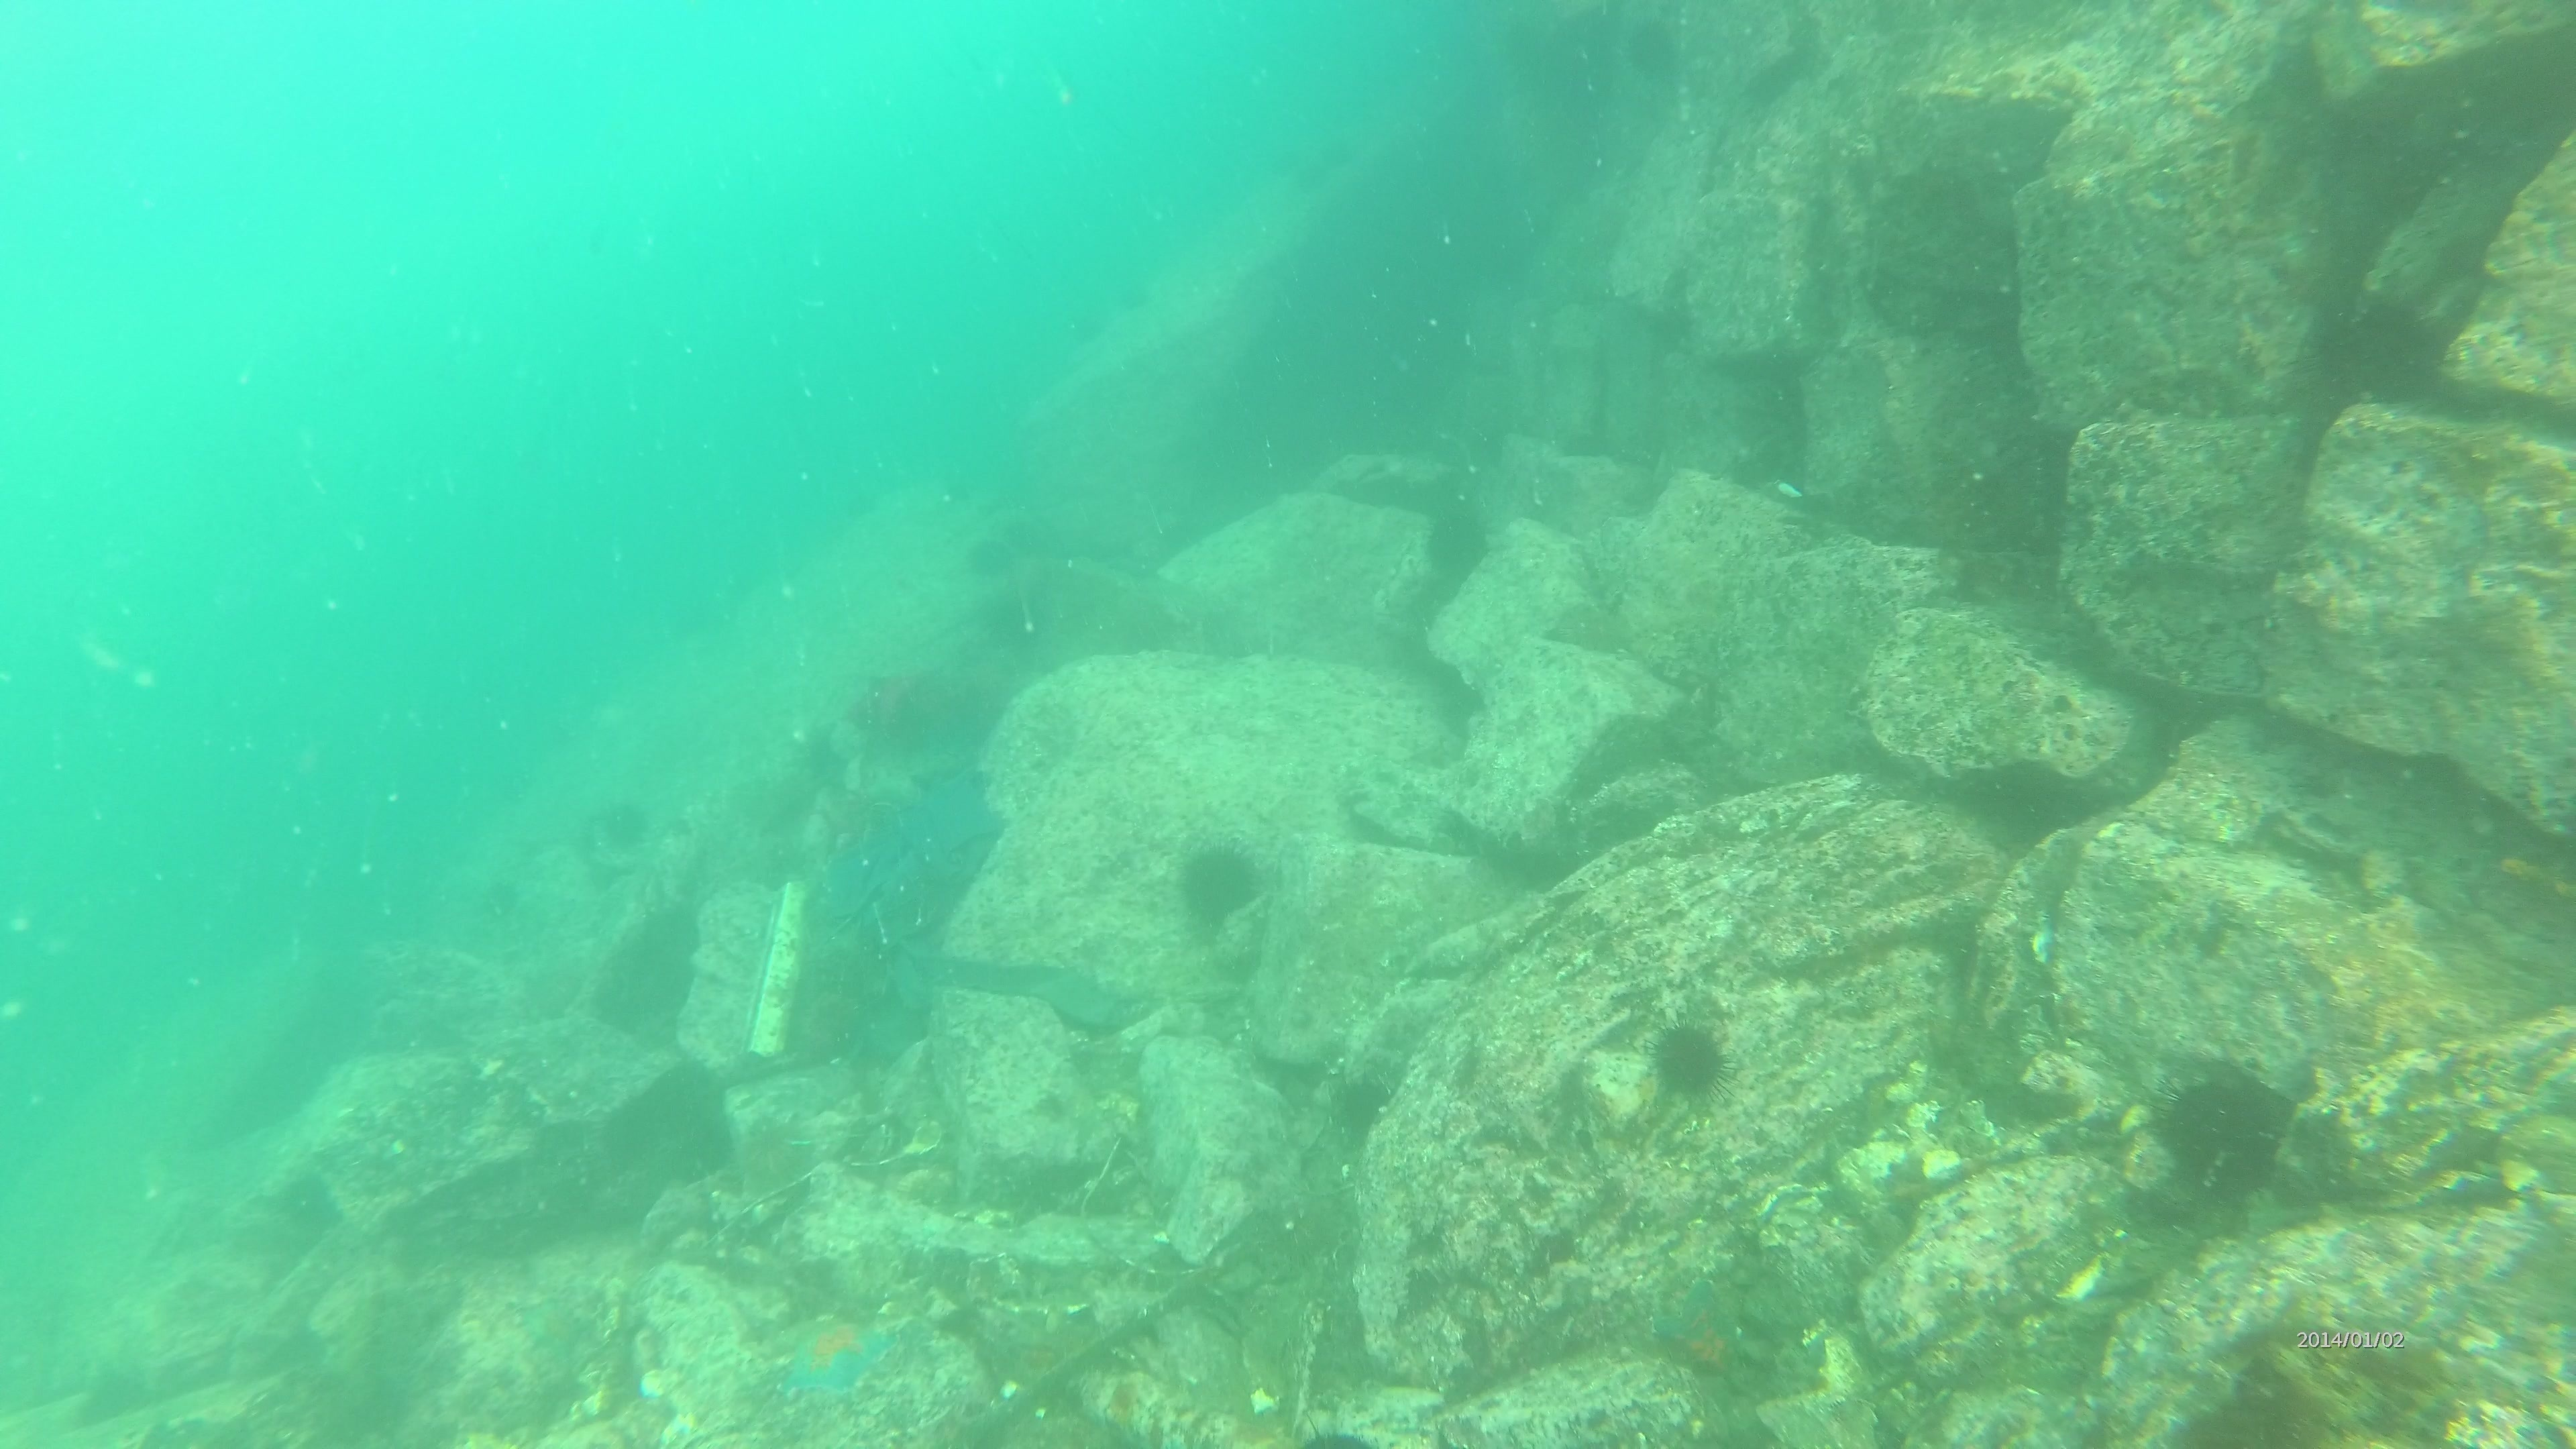echinus: (2148, 1063, 2293, 1205), (2307, 287, 2454, 416), (1169, 833, 1269, 934), (1642, 1010, 1737, 1109), (1415, 492, 1500, 589), (264, 1161, 347, 1247), (580, 791, 658, 863), (961, 533, 1008, 575), (1001, 517, 1049, 552), (1074, 311, 1109, 341), (1115, 280, 1146, 306)
starfish: (766, 1300, 899, 1405), (1645, 1274, 1764, 1384)
